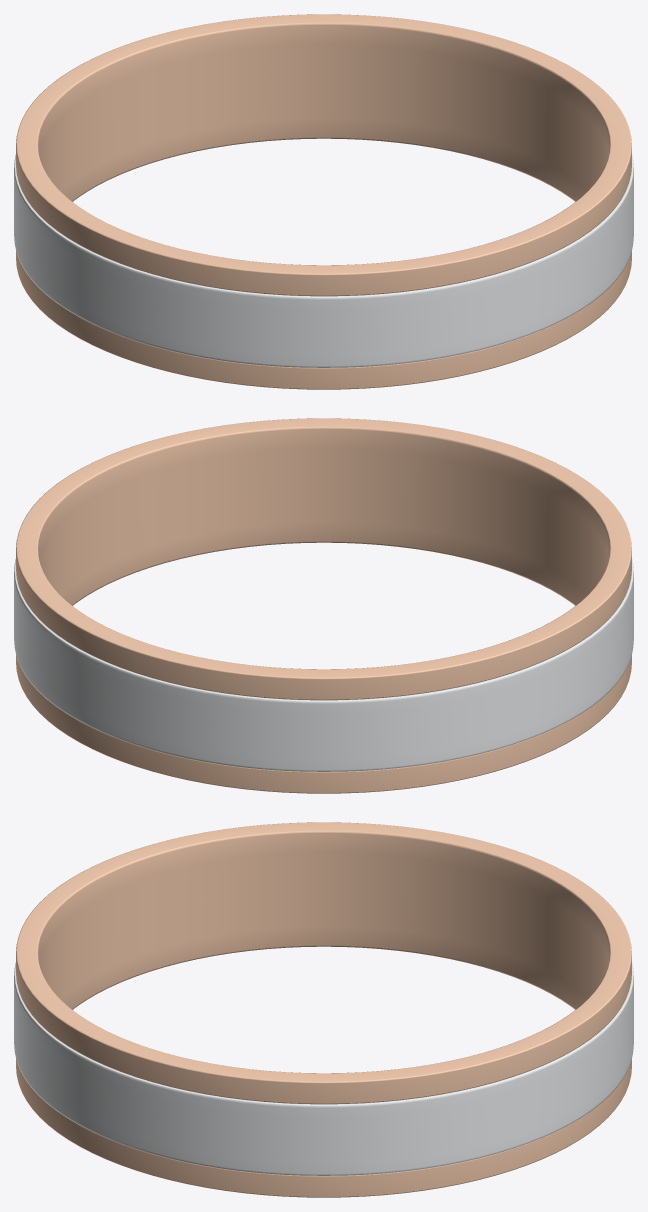
3 renders of one model, top to bottom at view 1: azimuth 30°, elevation 25°; view 2: azimuth 150°, elevation 25°; view 3: azimuth 270°, elevation 25°, orthographic.
Parts seen in each view (by area): view 1: Engraving_Metal, Base_Metal, Finishing_Metal; view 2: Engraving_Metal, Base_Metal, Finishing_Metal; view 3: Engraving_Metal, Base_Metal, Finishing_Metal.
Boxes of the visible parts, x1,y1,x2,y2 form: Engraving_Metal: (38,25,609,200); Base_Metal: (16,14,631,389); Finishing_Metal: (14,155,633,367); Engraving_Metal: (38,429,609,604); Base_Metal: (16,418,631,793); Finishing_Metal: (14,559,633,771); Engraving_Metal: (38,833,609,1008); Base_Metal: (16,822,631,1197); Finishing_Metal: (14,963,633,1175).
Bounding box in the file's own units: 1.94 × 0.4 × 1.94.
